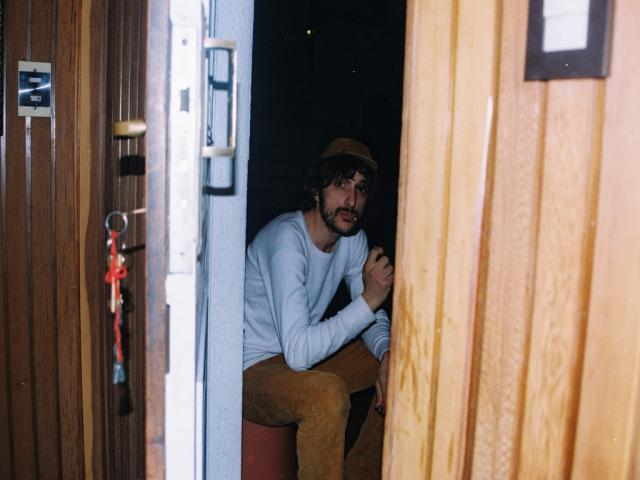Door-handle: (203, 34, 235, 163), (112, 119, 148, 144)
